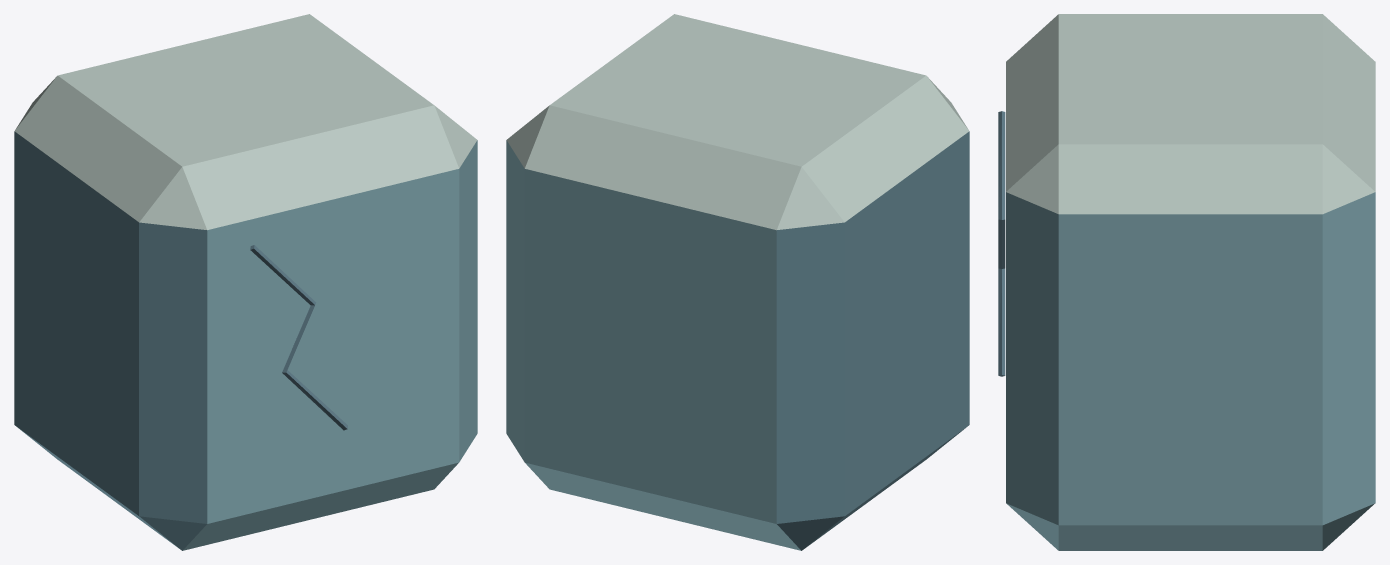
The model's file is ICE_BLOCK.lo.glb.
3 views of the same model, side by side, from view 1: azimuth 30°, elevation 25°; view 2: azimuth 150°, elevation 25°; view 3: azimuth 270°, elevation 25° (orthographic). The views are drawn at different scales.
Parts seen in each view (by area): view 1: Body_Mesh; view 2: Body_Mesh; view 3: Body_Mesh.
Boxes of the visible parts, <box> form: Body_Mesh: <box>14,14,477,550</box>; Body_Mesh: <box>506,14,969,550</box>; Body_Mesh: <box>998,14,1375,550</box>.
Bounding box in the file's own units: 0.94 × 1.02 × 0.857.
